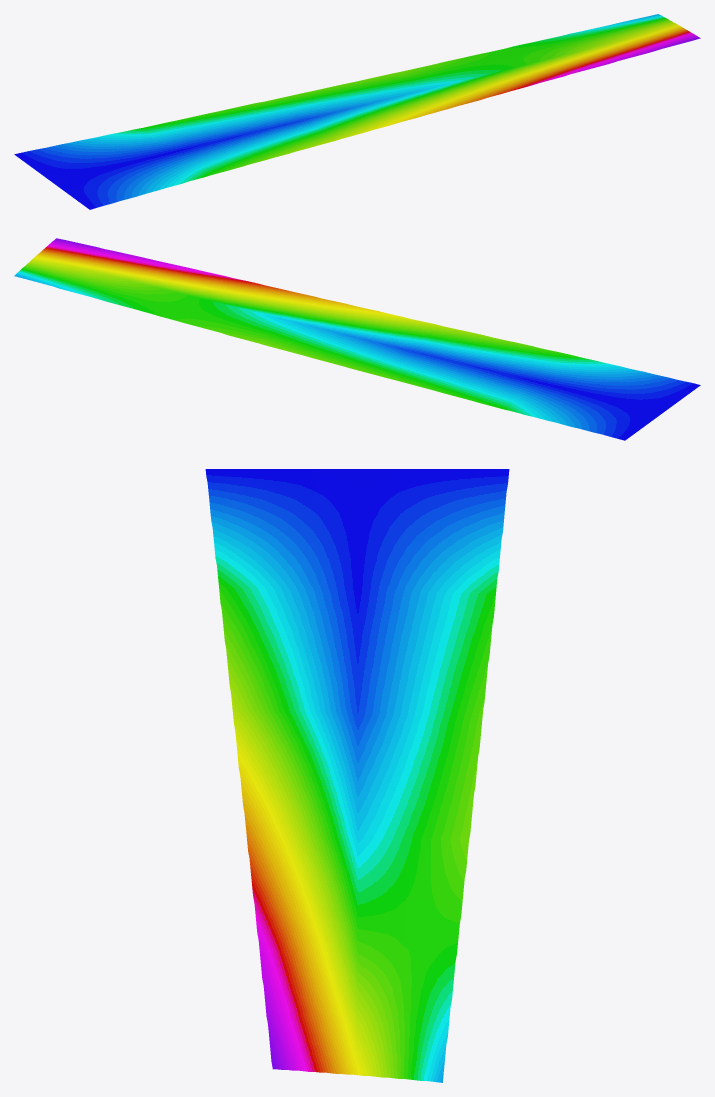
The picture shows the model from 3 angles, top to bottom: view 1: azimuth 30°, elevation 25°; view 2: azimuth 150°, elevation 25°; view 3: azimuth 270°, elevation 25°; orthographic projection. The views are drawn at different scales.
Visible parts, largest first — view 1: Elements; view 2: Elements; view 3: Elements.
Boxes of the visible parts, x1,y1,x2,y2 form: Elements: (14,14,700,209); Elements: (14,238,700,440); Elements: (205,469,509,1082).
Size of the model in its own units: 1 by 0.0122 by 0.2096.
Materials: 1 (1 with a texture image).
